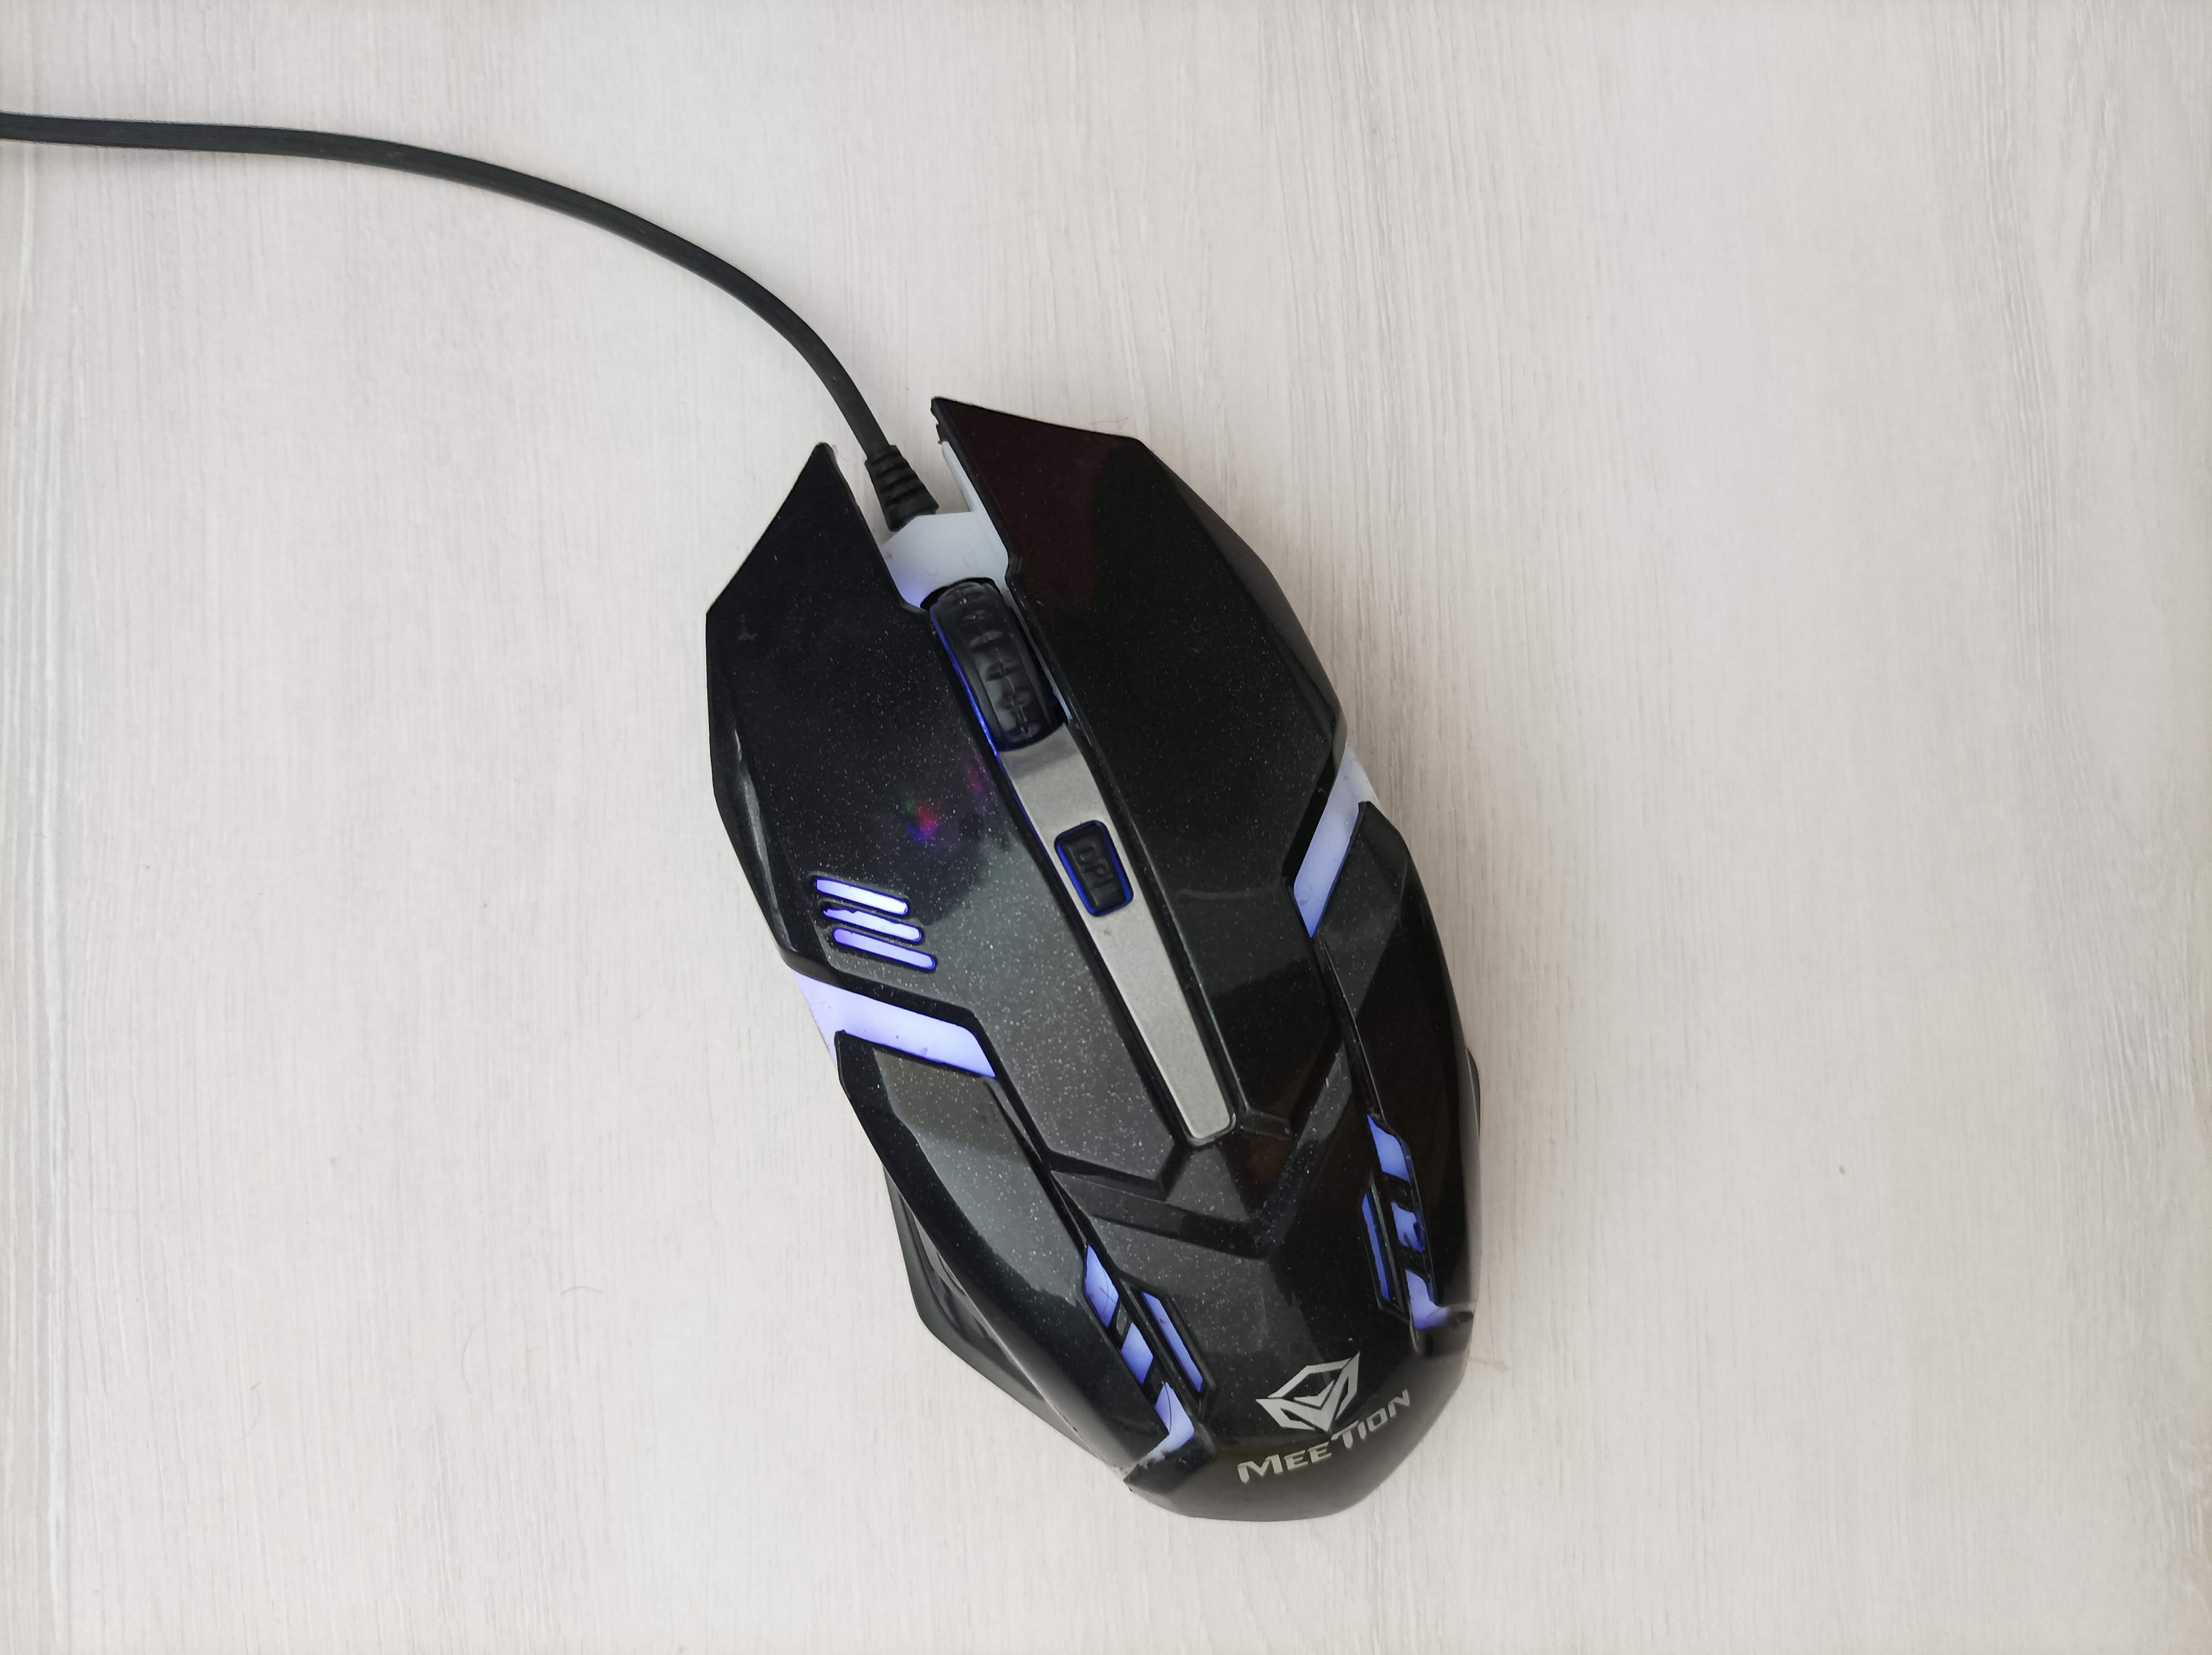mouse: (695, 386, 1500, 1540)
